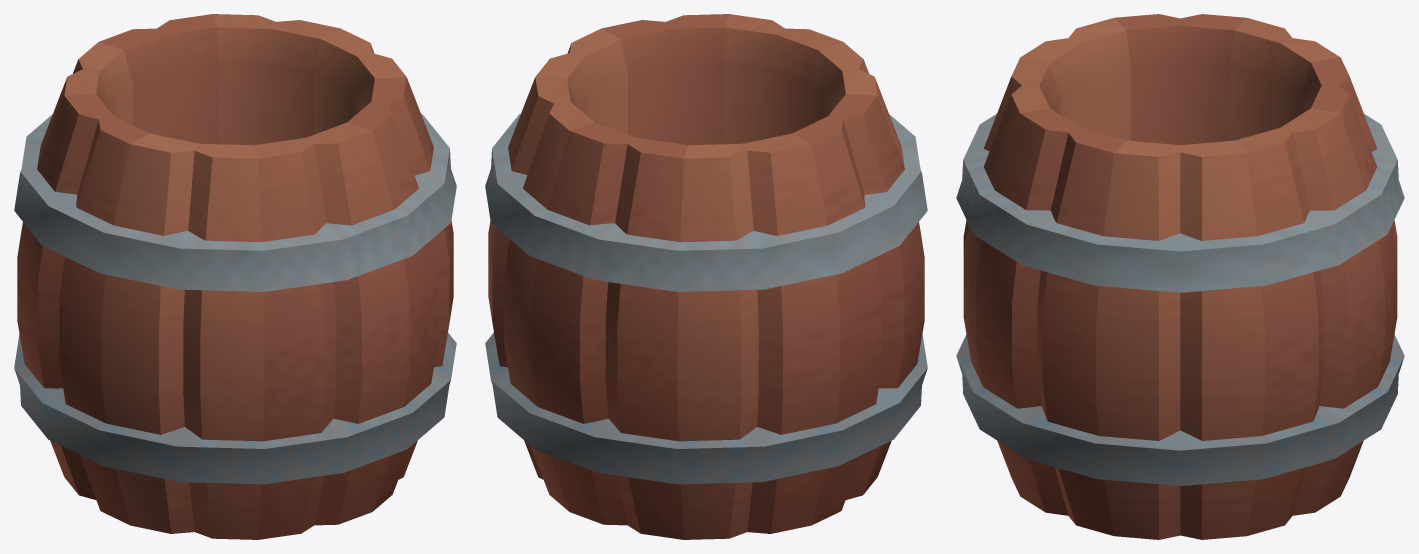
The model's file is Food_Barrel_Empty.gltf.
3 views of the same model, side by side, from view 1: azimuth 30°, elevation 25°; view 2: azimuth 150°, elevation 25°; view 3: azimuth 270°, elevation 25° (orthographic).
Parts seen in each view (by area): view 1: Food_Barrel_Empty; view 2: Food_Barrel_Empty; view 3: Food_Barrel_Empty.
Boxes of the visible parts, box(x1,y1,x2,y2) form: Food_Barrel_Empty: box(14, 14, 456, 539); Food_Barrel_Empty: box(485, 14, 927, 539); Food_Barrel_Empty: box(956, 14, 1404, 539).
Bounding box in the file's own units: 1.25 × 1.18 × 1.25.
Materials: 1 (1 with a texture image).
